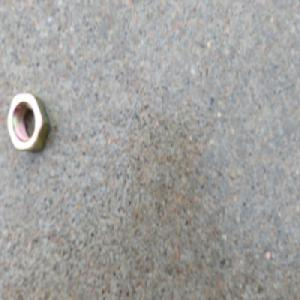Nut: (5, 89, 51, 153)
